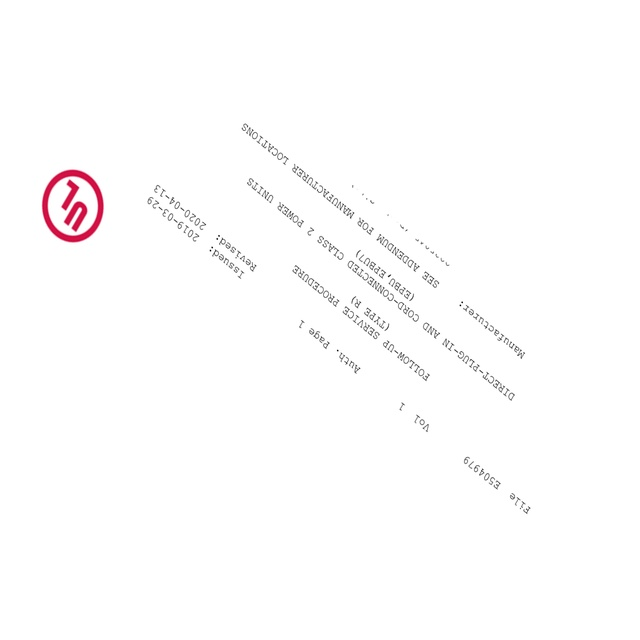ul: (43, 167, 104, 243)
